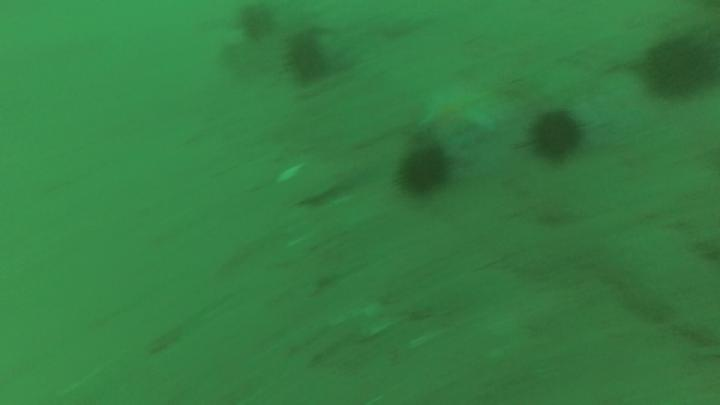echinus: (641, 35, 718, 106), (394, 143, 457, 205), (524, 106, 584, 169), (286, 27, 330, 82), (242, 3, 274, 41)
starfish: (415, 88, 502, 140)
